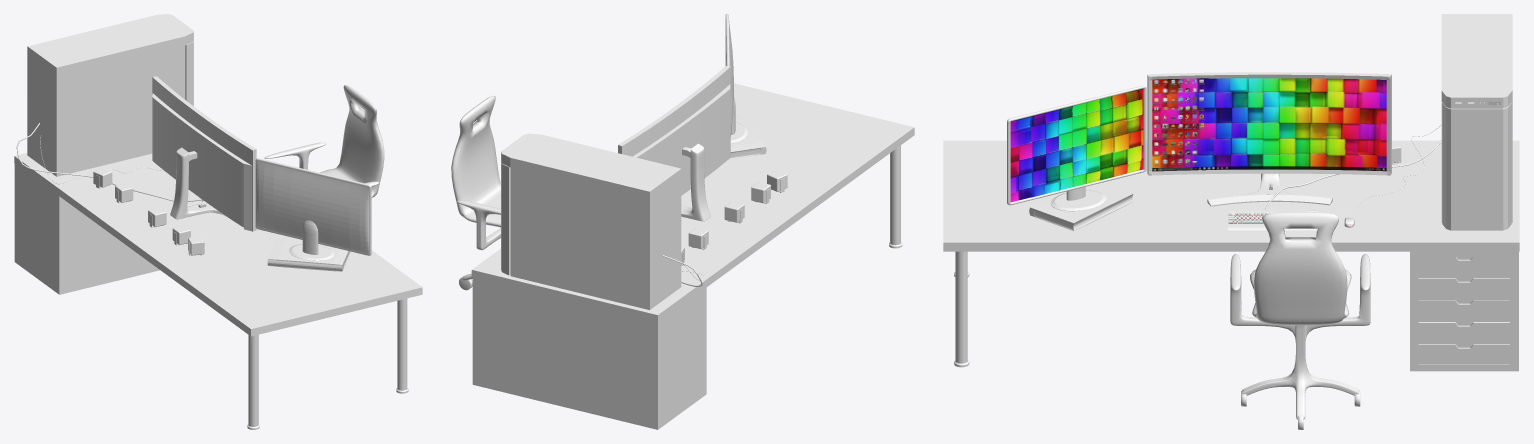
File: Compu.glb
3 renders of one model, left to right at view 1: azimuth 30°, elevation 25°; view 2: azimuth 150°, elevation 25°; view 3: azimuth 270°, elevation 25°, orthographic. The views are drawn at different scales.
Parts seen in each view (by area): view 1: Plane.008, Cube.042, Cube.037, Cube.028, Cube.047, Cylinder.013, Cube.049, Cylinder.017, Cube.013, Cube.046, Cylinder.011, Cylinder.012; view 2: Cube.042, Cube.037, Plane.008, Cylinder.013, Cube.047, Cube.049, Cube.046, Cylinder.017, Cube.013, Cube.028; view 3: Plane.008, f6b3c5c8c075819732f5fb427e1aee9d.001, Cube.042, Cylinder.013, Cube.028, Cube.036, Cube.049, Cube.037, Cube.013, Cylinder.017, Cube.048, Cube.044 (+1 smaller).
Part boxes in pixels (x1,y1,x2,y2): Plane.008: (14,153,422,336); Cube.042: (27,14,193,176); Cube.037: (14,164,159,294); Cube.028: (255,158,371,255); Cube.047: (152,93,252,231); Cylinder.013: (264,85,384,197); Cube.049: (152,76,256,231); Cylinder.017: (247,298,408,429); Cube.013: (267,239,350,271); Cube.046: (170,147,227,219); Cylinder.011: (302,220,318,254); Cylinder.012: (289,244,335,260); Cube.042: (501,133,681,309); Cube.037: (472,278,706,429); Plane.008: (471,83,914,322); Cylinder.013: (451,95,500,290); Cube.047: (633,84,730,195); Cube.049: (618,66,730,156); Cube.046: (681,143,710,221); Cylinder.017: (889,145,902,248); Cube.013: (729,114,766,159); Cube.028: (725,14,733,136); Plane.008: (943,140,1519,251); f6b3c5c8c075819732f5fb427e1aee9d.001: (1152,78,1386,171); Cube.042: (1441,14,1512,230); Cylinder.013: (1230,212,1370,429); Cube.028: (1007,85,1146,205); Cube.036: (1418,257,1509,364); Cube.049: (1147,72,1391,175); Cube.037: (1410,251,1518,371); Cube.013: (1029,182,1133,230); Cylinder.017: (954,251,969,367); Cube.048: (1207,194,1332,206); Cube.044: (1228,210,1317,230).
Size of the model in its own units: 4.59 by 3.26 by 6.48.
22 materials, 2 textured.
